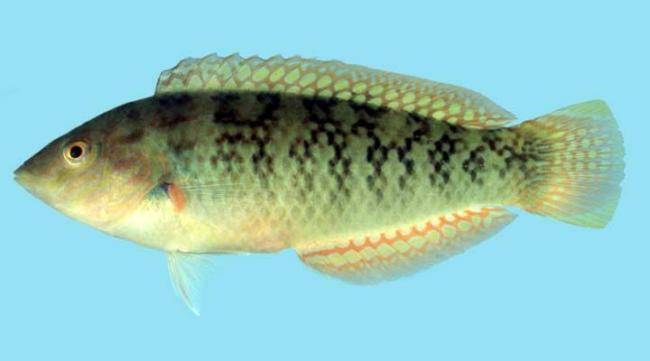fish: (12, 50, 627, 316)
